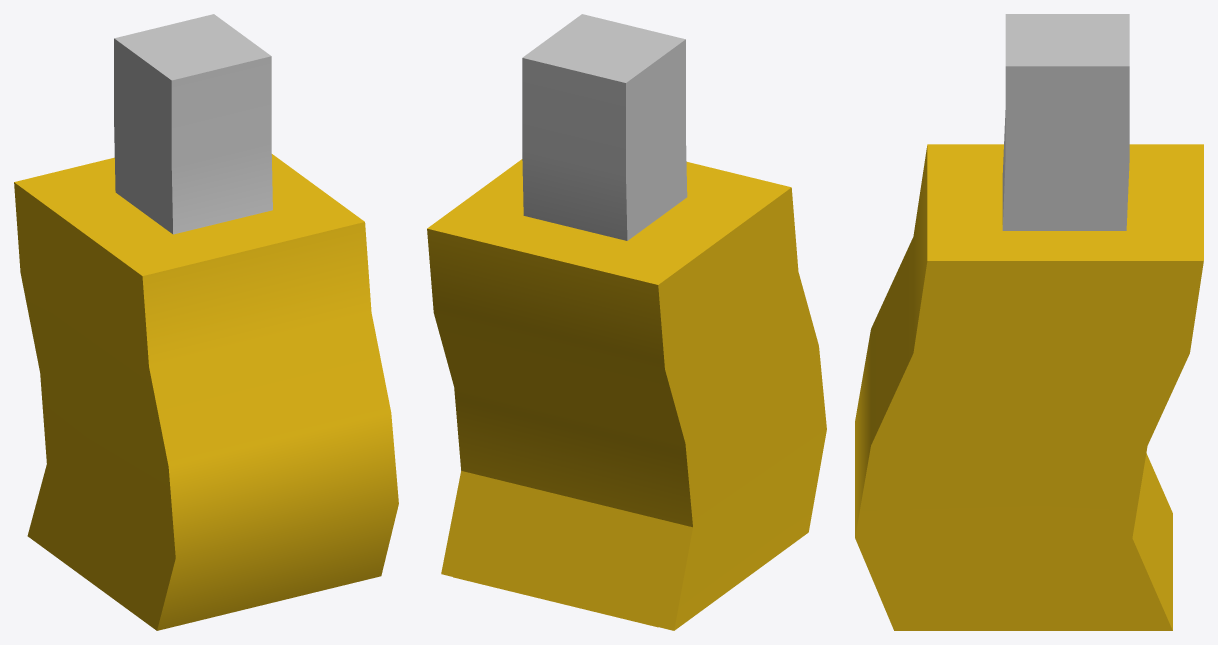
Rendered from piston_sty.fbx.
3 renders of one model, left to right at view 1: azimuth 30°, elevation 25°; view 2: azimuth 150°, elevation 25°; view 3: azimuth 270°, elevation 25°, orthographic. The views are drawn at different scales.
Parts seen in each view (by area): view 1: Cube, PistonArm; view 2: Cube, PistonArm; view 3: Cube, PistonArm.
Part boxes in pixels (<box>): Cube: <box>14,154,398,630</box>; PistonArm: <box>114,14,272,234</box>; Cube: <box>427,159,826,630</box>; PistonArm: <box>453,14,687,627</box>; Cube: <box>855,144,1203,630</box>; PistonArm: <box>1002,14,1129,230</box>.
Bounding box in the file's own units: 300 × 637 × 375.
